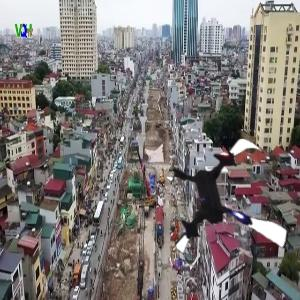drone: (155, 133, 300, 279)
